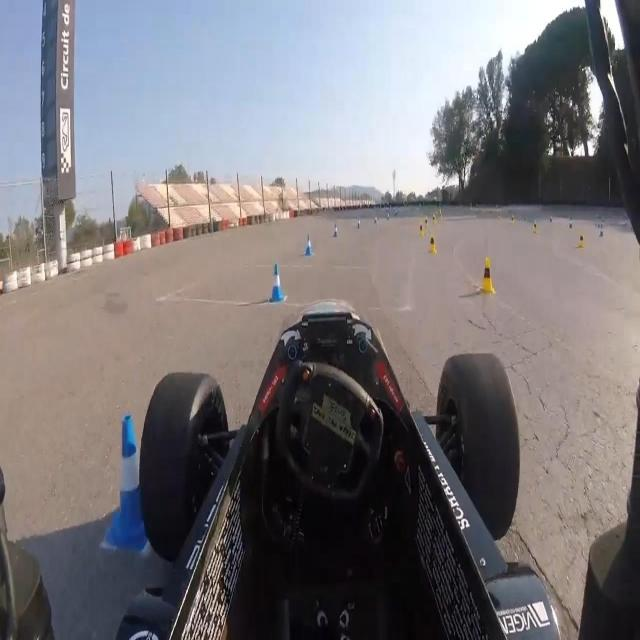blue_cone: (100, 412, 158, 566), (269, 265, 284, 302), (305, 233, 313, 257), (332, 222, 338, 239), (568, 216, 573, 229), (356, 218, 360, 230), (374, 216, 378, 225), (387, 212, 390, 220)
yellow_cone: (478, 257, 494, 296), (577, 230, 585, 249), (429, 234, 437, 253), (419, 222, 424, 239), (532, 220, 537, 234), (425, 216, 429, 230), (432, 213, 436, 227)
